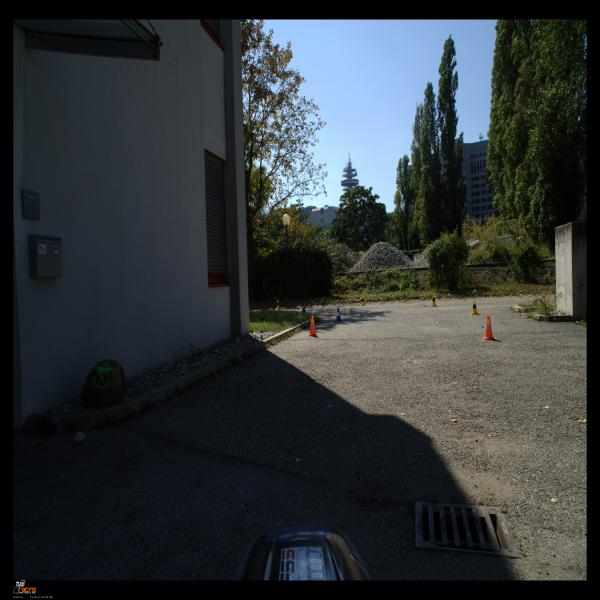blue_cone: (334, 308, 343, 322), (300, 308, 306, 314)
orange_cone: (481, 315, 497, 340), (308, 316, 317, 336)
yellow_cone: (470, 300, 480, 315), (430, 294, 437, 307), (275, 299, 281, 309), (360, 295, 365, 306)
